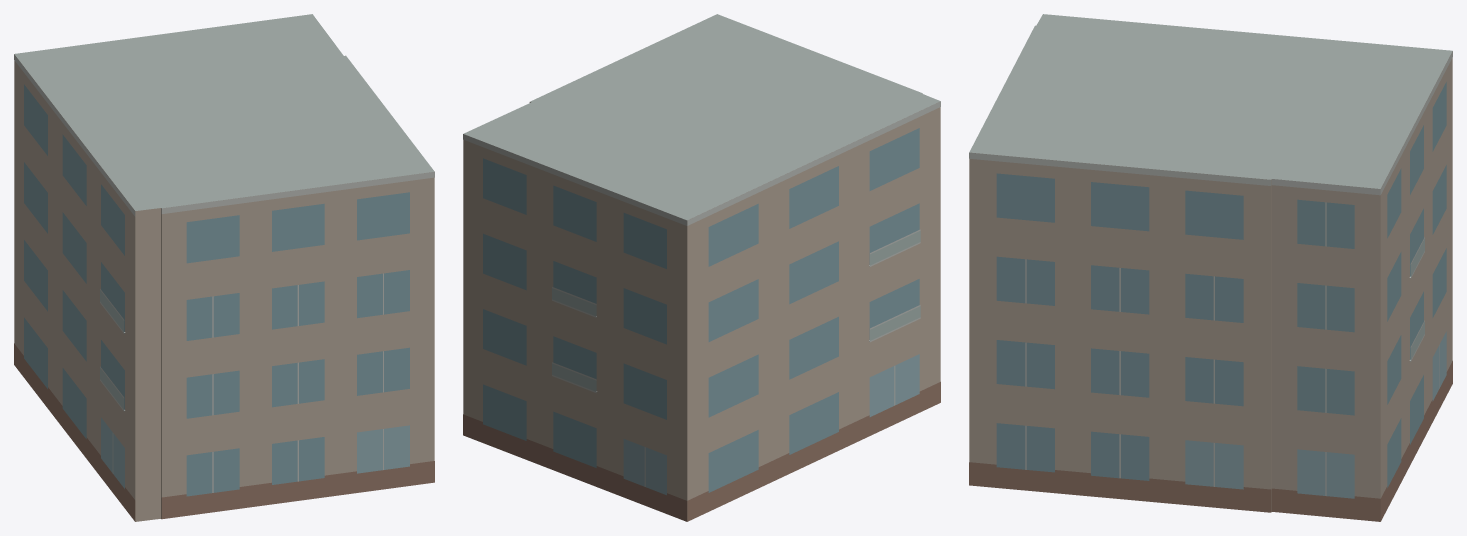
The model's file is survey-upis-32656863.glb.
3 renders of one model, left to right at view 1: azimuth 30°, elevation 25°; view 2: azimuth 150°, elevation 25°; view 3: azimuth 270°, elevation 25°, orthographic. The views are drawn at different scales.
Visible parts, largest first — view 1: survey-upis-32656863.tmp; view 2: survey-upis-32656863.tmp; view 3: survey-upis-32656863.tmp.
Part boxes in pixels (left/top/right/bottom): survey-upis-32656863.tmp: left=14, top=14, right=434, bottom=521; survey-upis-32656863.tmp: left=463, top=14, right=940, bottom=521; survey-upis-32656863.tmp: left=969, top=14, right=1452, bottom=521.
Bounding box in the file's own units: 14.62 × 12.96 × 17.08.
